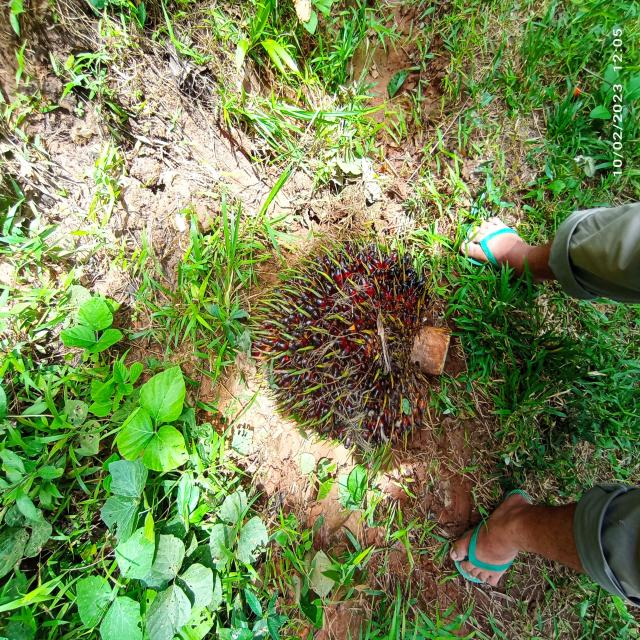fraksi 1: (222, 216, 473, 498)
